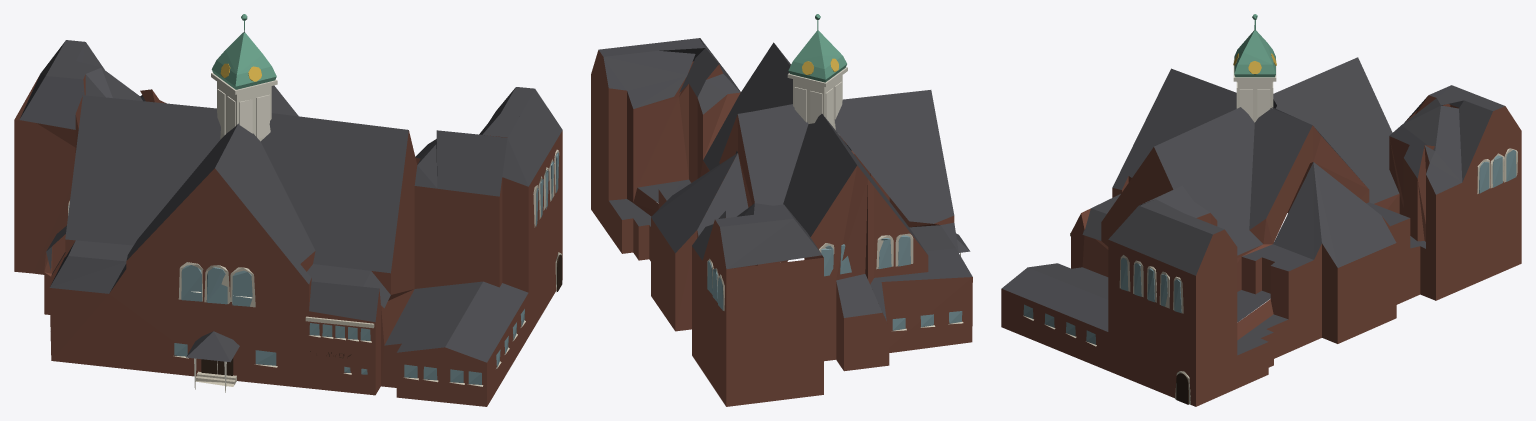
The model's file is nassaukerk.lod1.glb.
3 views of the same model, side by side, from view 1: azimuth 30°, elevation 25°; view 2: azimuth 150°, elevation 25°; view 3: azimuth 270°, elevation 25° (orthographic). The views are drawn at different scales.
Visible parts, largest first — view 1: nassaukerk; view 2: nassaukerk; view 3: nassaukerk.
Part boxes in pixels (bbox=[...]): nassaukerk: bbox=[14, 14, 562, 406]; nassaukerk: bbox=[591, 14, 972, 406]; nassaukerk: bbox=[1001, 14, 1521, 406].
Bounding box in the file's own units: 43.18 × 27.35 × 47.57.
